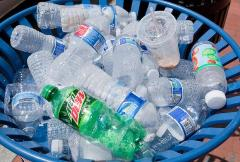general: (148, 7, 160, 34)
plastic: (40, 85, 146, 162), (46, 13, 112, 86), (135, 101, 209, 161), (144, 76, 202, 107), (111, 33, 143, 89)
